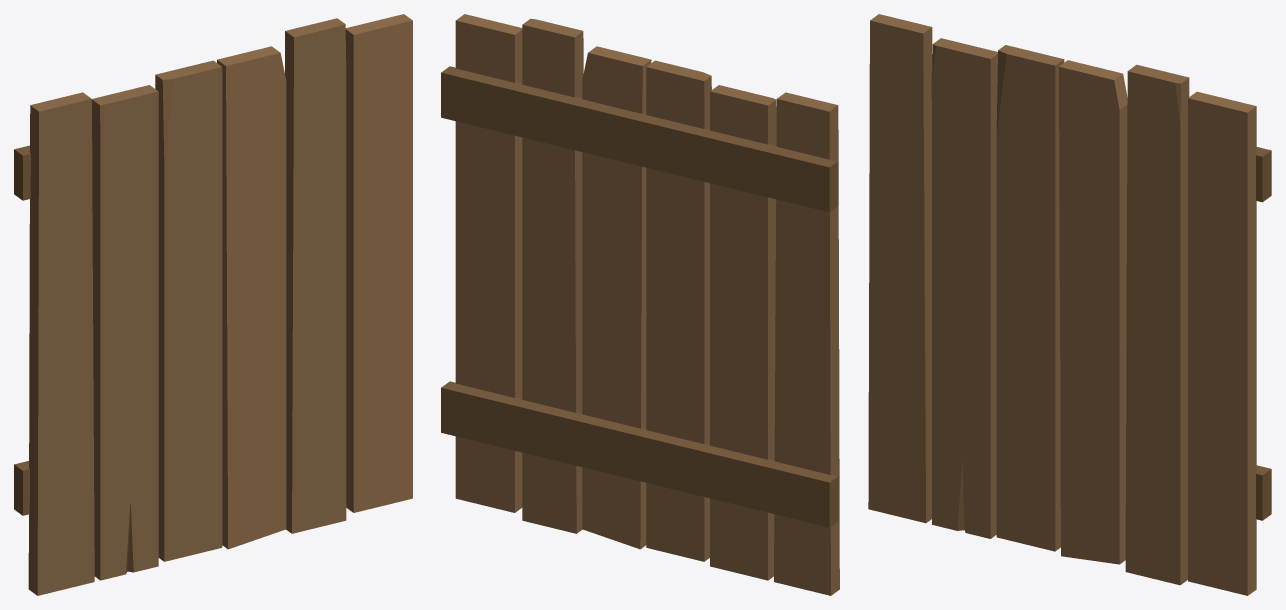
The model's file is Fence_02.glb.
3 views of the same model, side by side, from view 1: azimuth 30°, elevation 25°; view 2: azimuth 150°, elevation 25°; view 3: azimuth 330°, elevation 25° (orthographic).
Parts seen in each view (by area): view 1: Fence_02; view 2: Fence_02; view 3: Fence_02.
Part boxes in pixels (box(x1,y1,x2,y2)): Fence_02: box(14, 14, 412, 595); Fence_02: box(441, 14, 839, 595); Fence_02: box(868, 14, 1271, 595).
Size of the model in its own units: 1.02 by 1.24 by 0.0766.
Materials: 1 (1 with a texture image).
